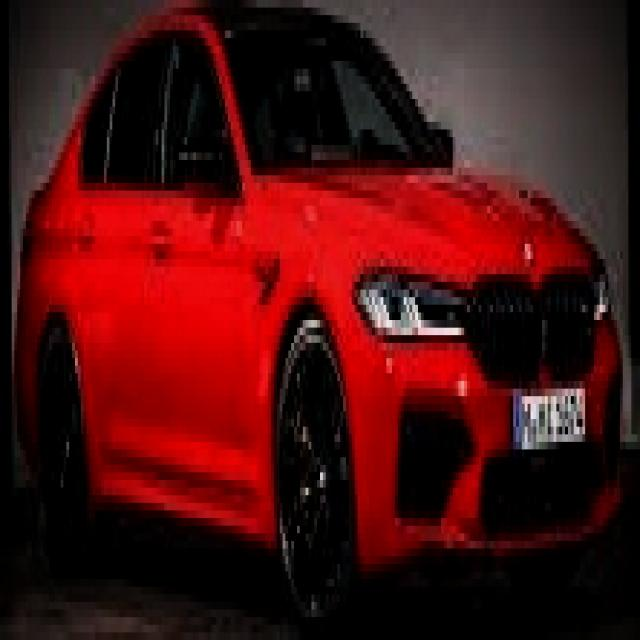red: (19, 18, 616, 572)
